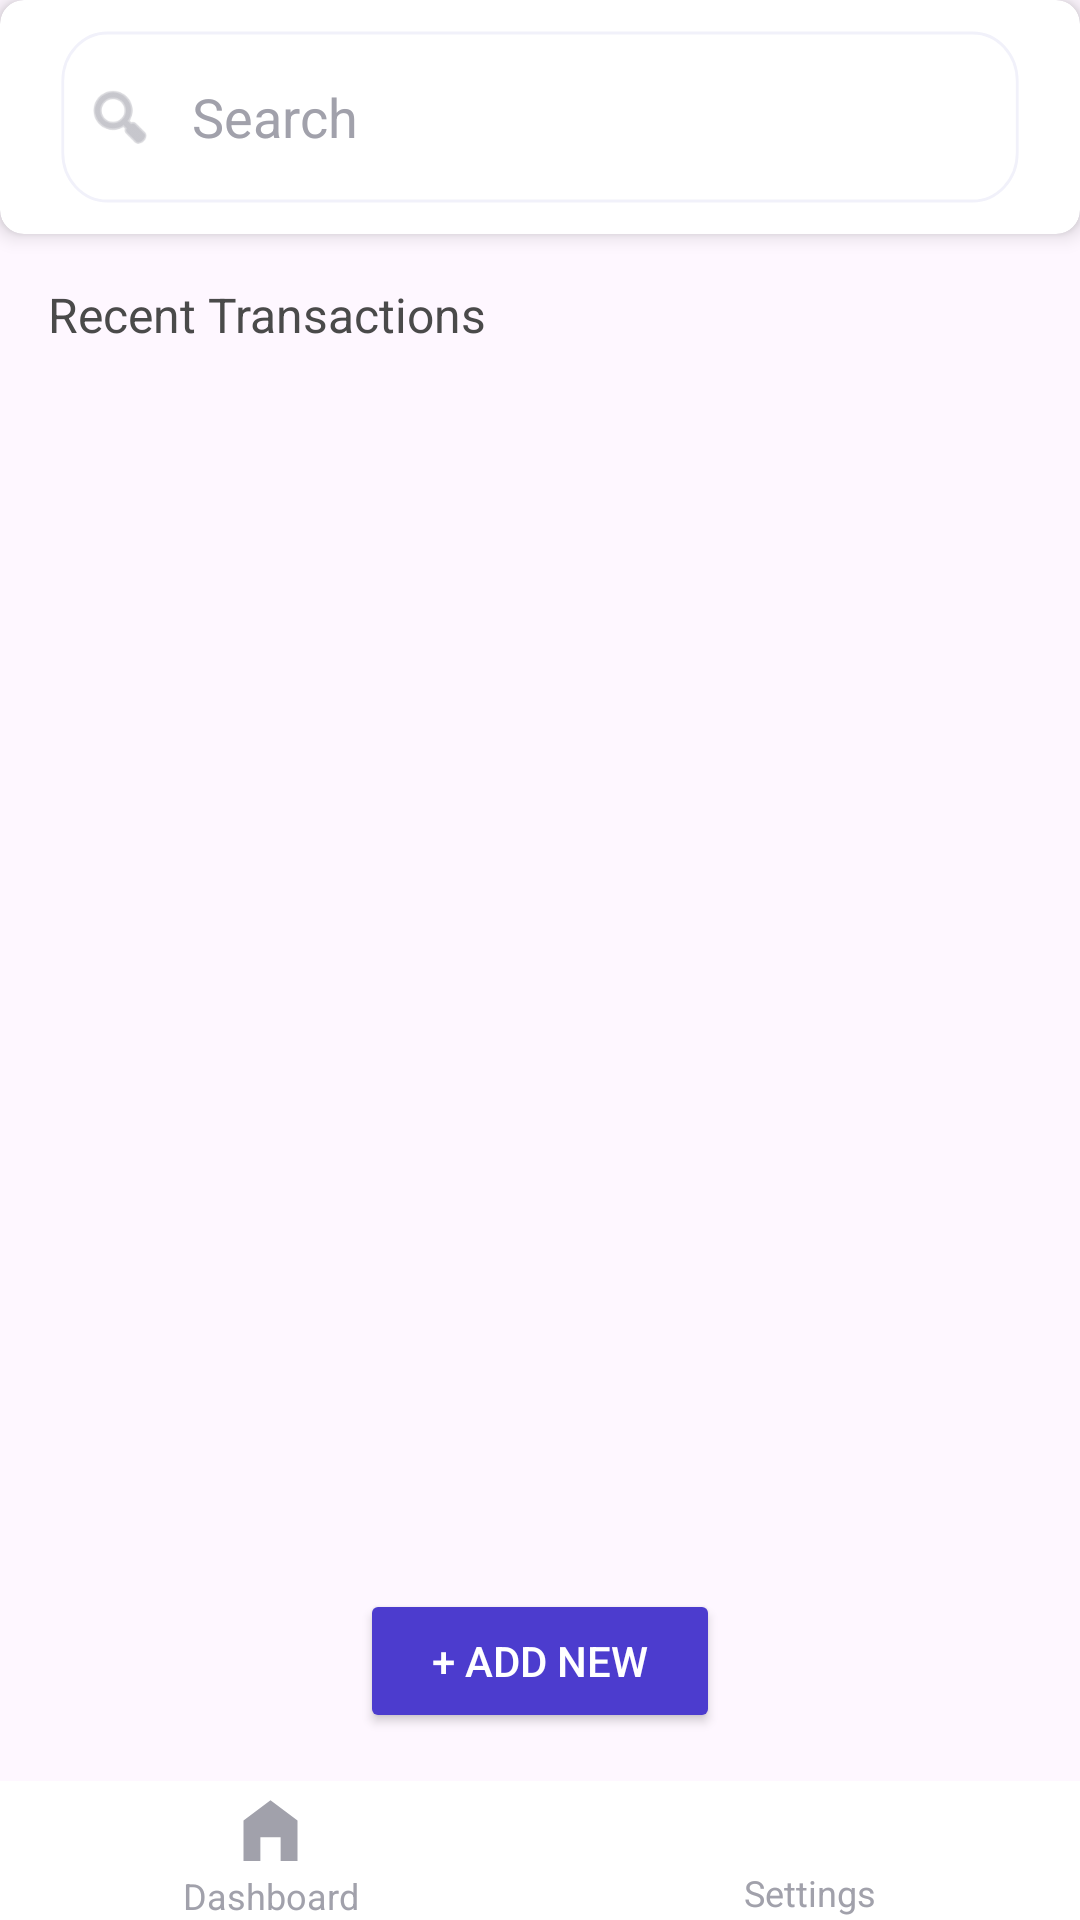

Where to tap for icons on this 1080px×1920px app screen, as (x,y):
home: (270,1830)
